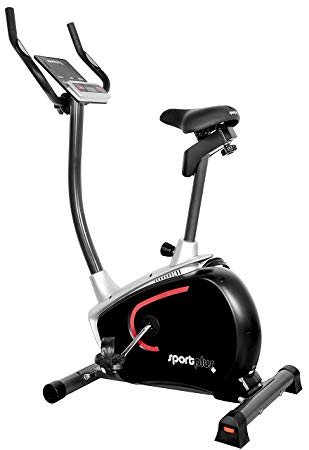gym_bike: (1, 15, 307, 443)
